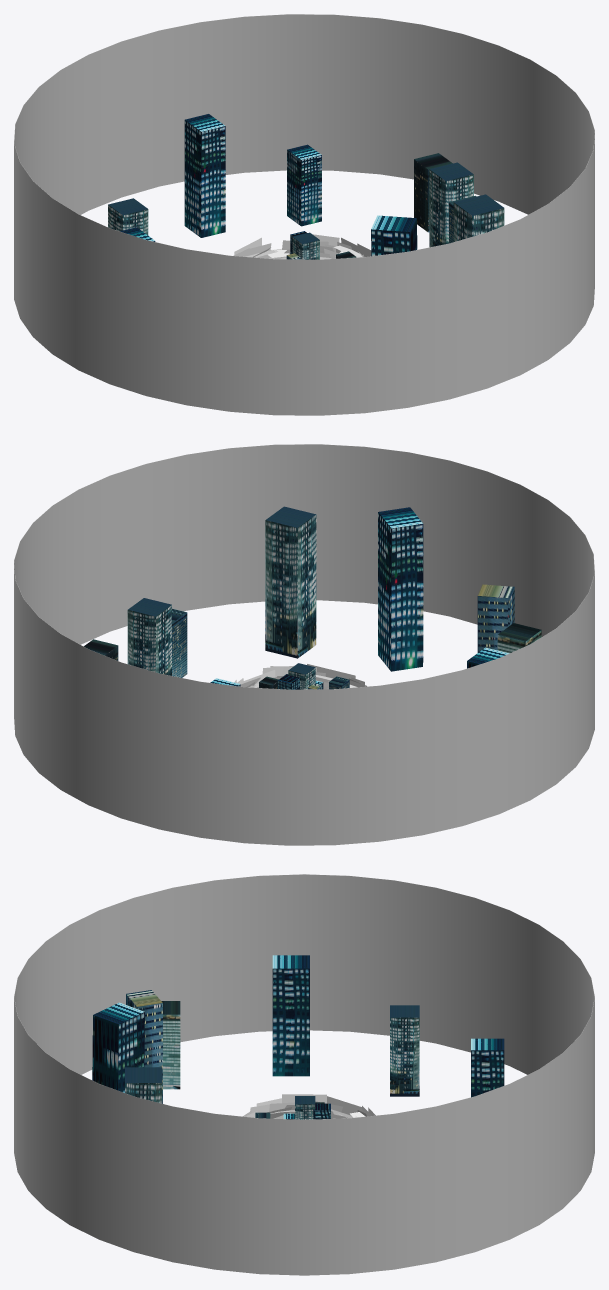
The model's file is stage_tex.fbx.
3 renders of one model, top to bottom at view 1: azimuth 30°, elevation 25°; view 2: azimuth 150°, elevation 25°; view 3: azimuth 270°, elevation 25°, orthographic.
Visible parts, largest first — view 1: pPipe1, pCube26, pCube25, pCube22, pCube31, pCube30, pCube24, pCube27, pCube1, polySurface1; view 2: pPipe1, pCube31, pCube30, pCube22, pCube29, pCube23, pCube28; view 3: pPipe1, pCube32, pCube30, pCube27, pCube26, pCube29, pCube28, pCube31.
Boxes of the visible parts, x1,y1,x2,y2 form: pPipe1: [14, 14, 594, 415]; pCube26: [184, 114, 225, 237]; pCube25: [287, 144, 321, 226]; pCube22: [429, 162, 473, 247]; pCube31: [453, 194, 504, 241]; pCube30: [371, 215, 417, 256]; pCube24: [414, 153, 452, 232]; pCube27: [108, 198, 148, 235]; pCube1: [292, 232, 319, 259]; polySurface1: [245, 245, 363, 259]; pPipe1: [14, 444, 594, 845]; pCube31: [265, 506, 316, 658]; pCube30: [378, 507, 423, 671]; pCube22: [127, 598, 171, 675]; pCube29: [477, 584, 514, 652]; pCube23: [172, 608, 187, 677]; pCube28: [497, 623, 541, 653]; pPipe1: [14, 874, 594, 1275]; pCube32: [272, 955, 309, 1076]; pCube30: [92, 1002, 144, 1092]; pCube27: [390, 1005, 419, 1096]; pCube26: [471, 1038, 504, 1097]; pCube29: [126, 990, 162, 1103]; pCube28: [161, 1001, 180, 1089]; pCube31: [125, 1067, 162, 1103].
Size of what is drawn, in the model's own units: 115778 by 39955 by 115778.
